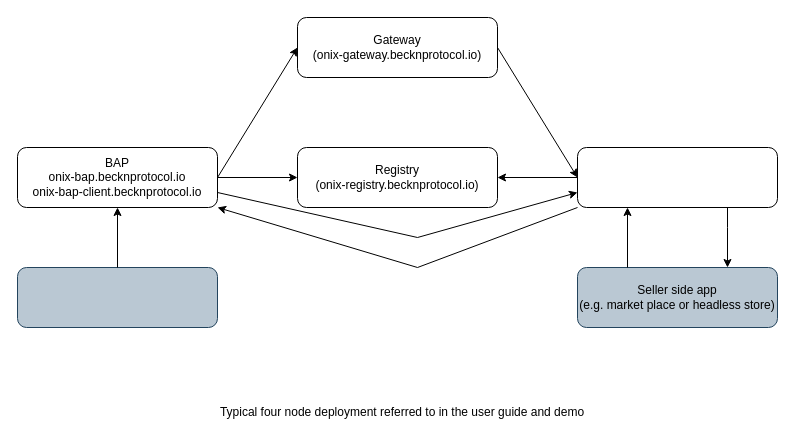
Some shapes in this 795 by 445 pixel diagram are drawn without their labels. Each missing label, with the centre of its shape:
"BPP onix-bpp.becknprotocol.io onix-bpp-client.becknprotocol.io" goes at point (677, 177).
"Buyer Side app (e.g. Store front)" goes at point (117, 297).
